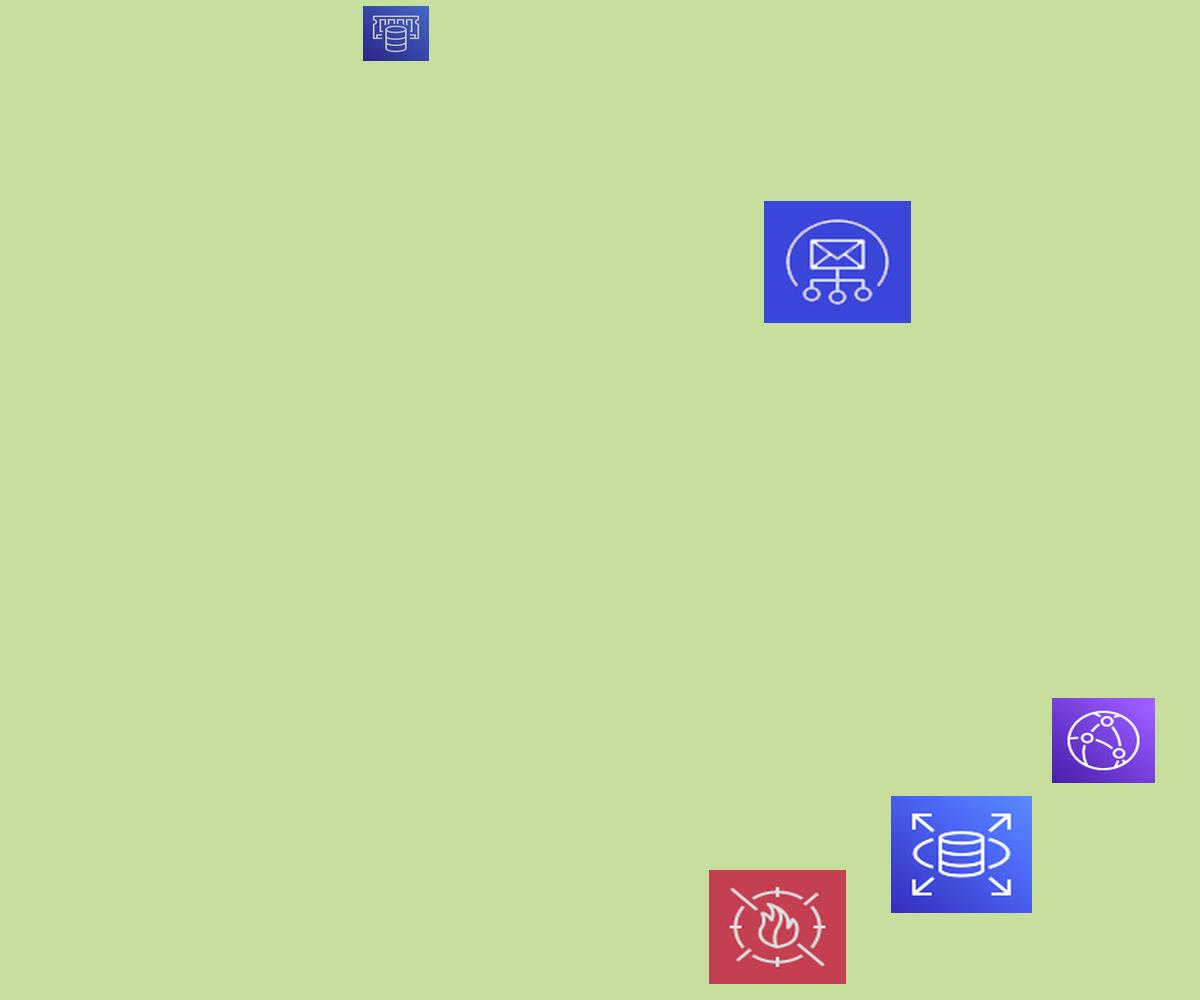AWS-CloudFront: (1052, 698, 1155, 783)
AWS-ElastiCache: (363, 6, 429, 61)
AWS-RDS: (891, 796, 1032, 913)
AWS-Simple-Email-Service: (764, 201, 911, 323)
AWS-WAF: (709, 870, 846, 984)
